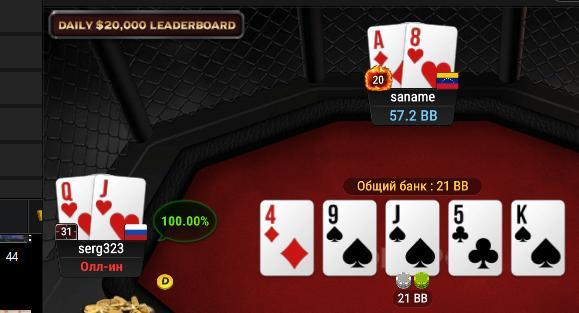4d: (261, 201, 313, 275)
5c: (449, 200, 502, 275)
8h: (404, 22, 457, 88)
9s: (322, 201, 375, 275)
Ad: (366, 25, 405, 88)
Jh: (93, 173, 147, 240)
Js: (387, 200, 438, 275)
Ks: (511, 200, 564, 275)
Qh: (54, 175, 92, 241)
